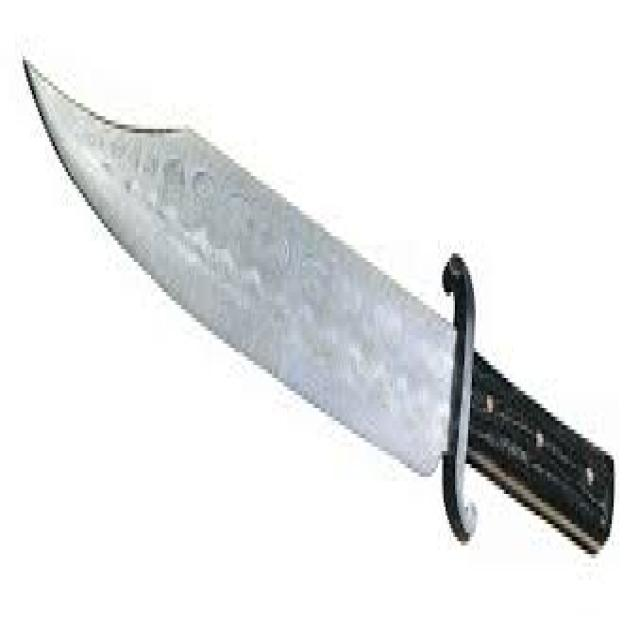knives: (19, 43, 617, 567)
